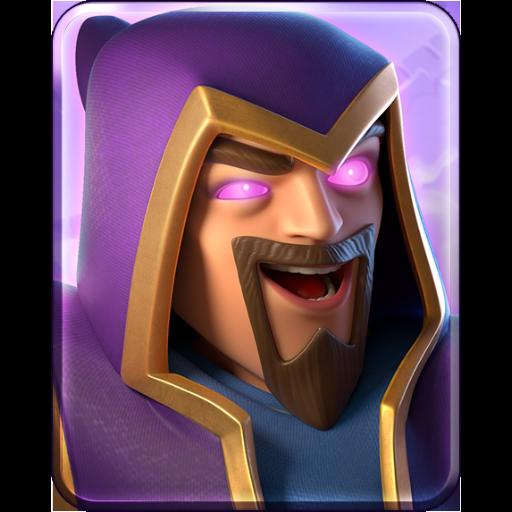wizard-evo: (63, 12, 453, 504)
